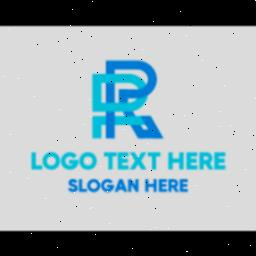a: (115, 176, 127, 196)
e: (116, 150, 130, 172)
g: (60, 150, 80, 170)
h: (165, 150, 185, 170)
l: (29, 148, 43, 170)
n: (128, 176, 142, 192)
o: (42, 149, 60, 169)
r: (198, 150, 214, 170)
s: (62, 176, 78, 192)
t: (101, 149, 117, 173)
x: (129, 150, 147, 172)
